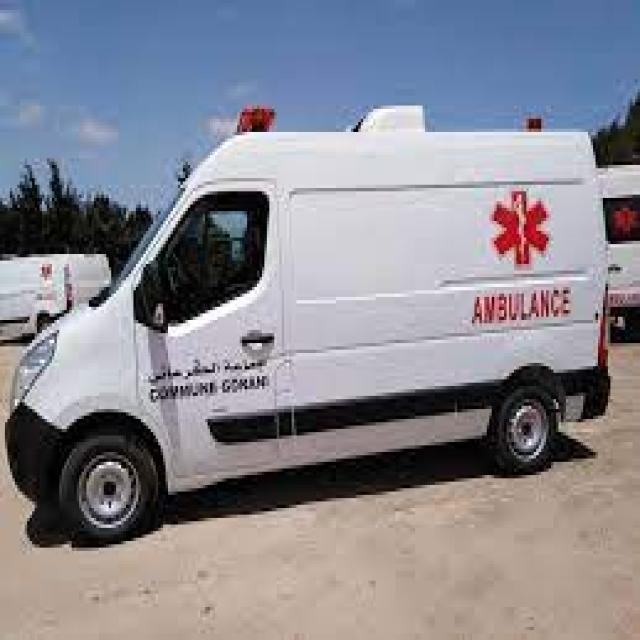ambulance: (0, 72, 622, 554)
